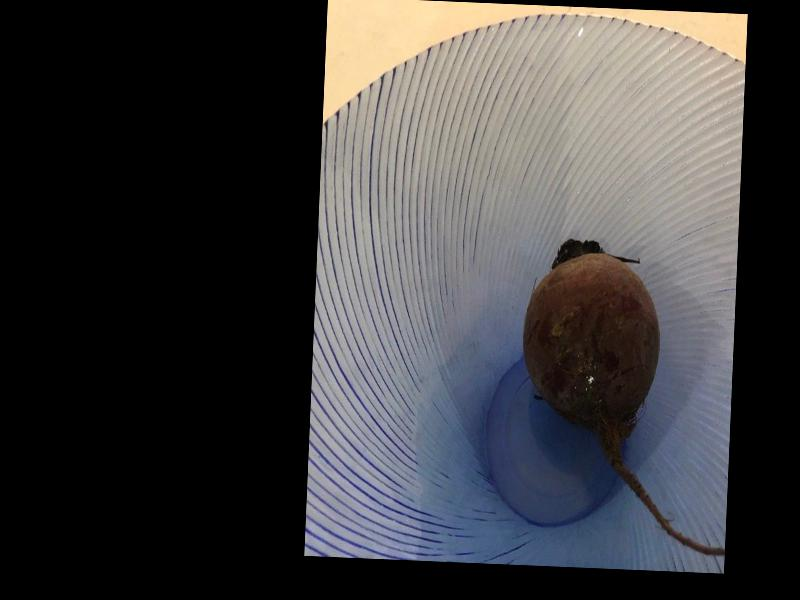Beet: (514, 235, 738, 554)
